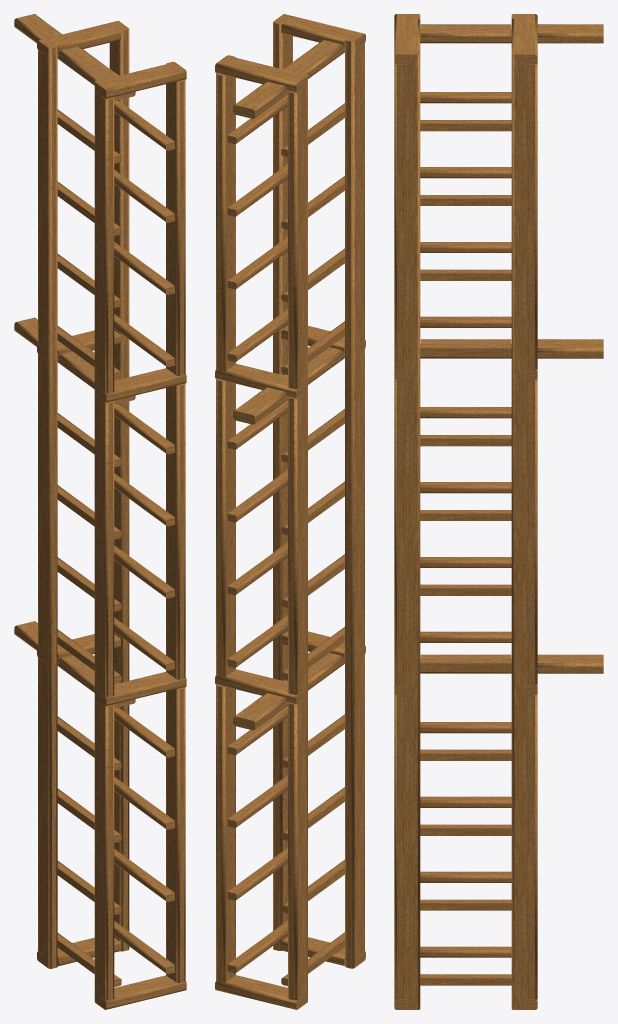
Rendered from VCKB0041.glb.
3 views of the same model, side by side, from view 1: azimuth 30°, elevation 25°; view 2: azimuth 150°, elevation 25°; view 3: azimuth 270°, elevation 25° (orthographic). The views are drawn at different scales.
Parts seen in each view (by area): view 1: V Bar COLUMN 48.003; view 2: V Bar COLUMN 48.003; view 3: V Bar COLUMN 48.003.
Part boxes in pixels (bbox=[...]): V Bar COLUMN 48.003: bbox=[14, 14, 186, 1009]; V Bar COLUMN 48.003: bbox=[215, 14, 365, 1009]; V Bar COLUMN 48.003: bbox=[394, 14, 603, 1009].
Bounding box in the file's own units: 0.111 × 1.21 × 0.241.
3 materials, 3 textured.
